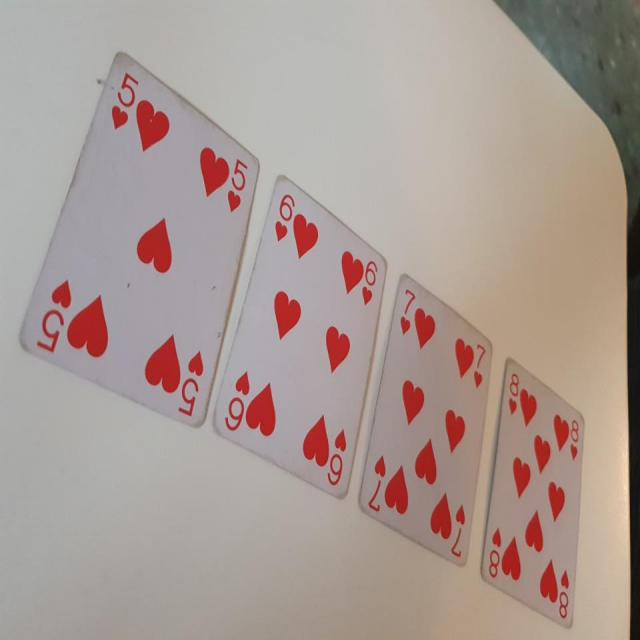5 Hearts: (24, 45, 261, 439)
6 Hearts: (206, 160, 390, 505)
7 Hearts: (355, 272, 499, 562)
8 Hearts: (469, 353, 587, 633)
